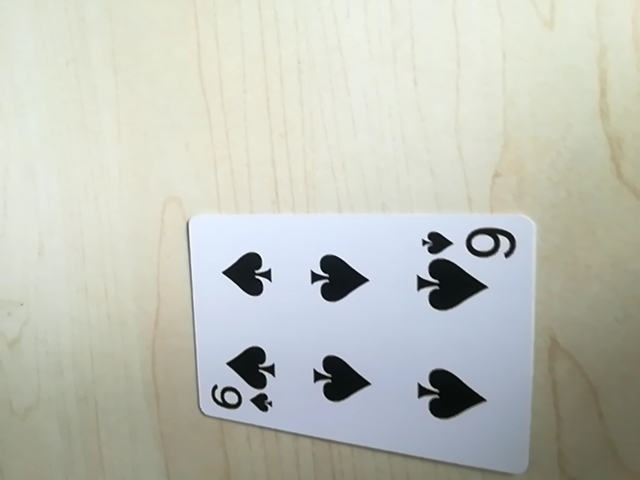ht 6: (420, 222, 521, 261), (207, 385, 278, 417)
